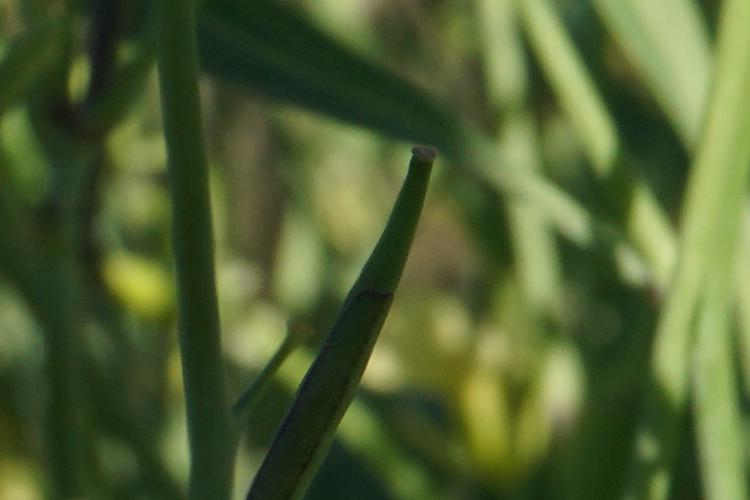pod: (209, 122, 443, 492)
